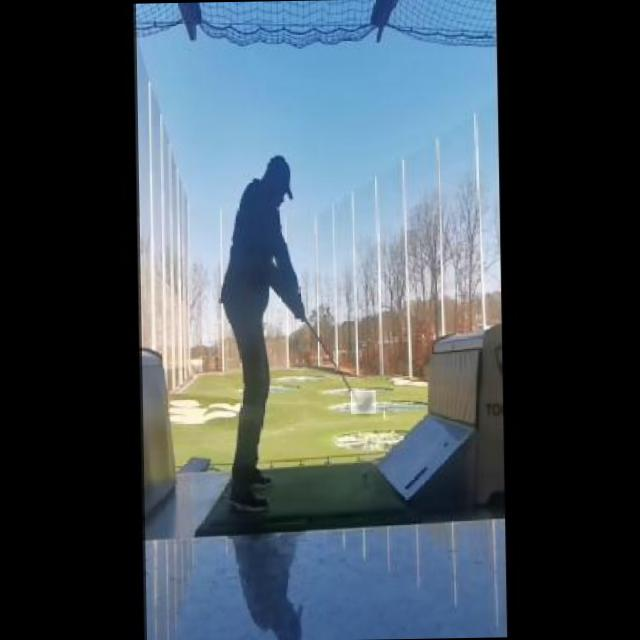club head: (350, 391, 376, 414)
